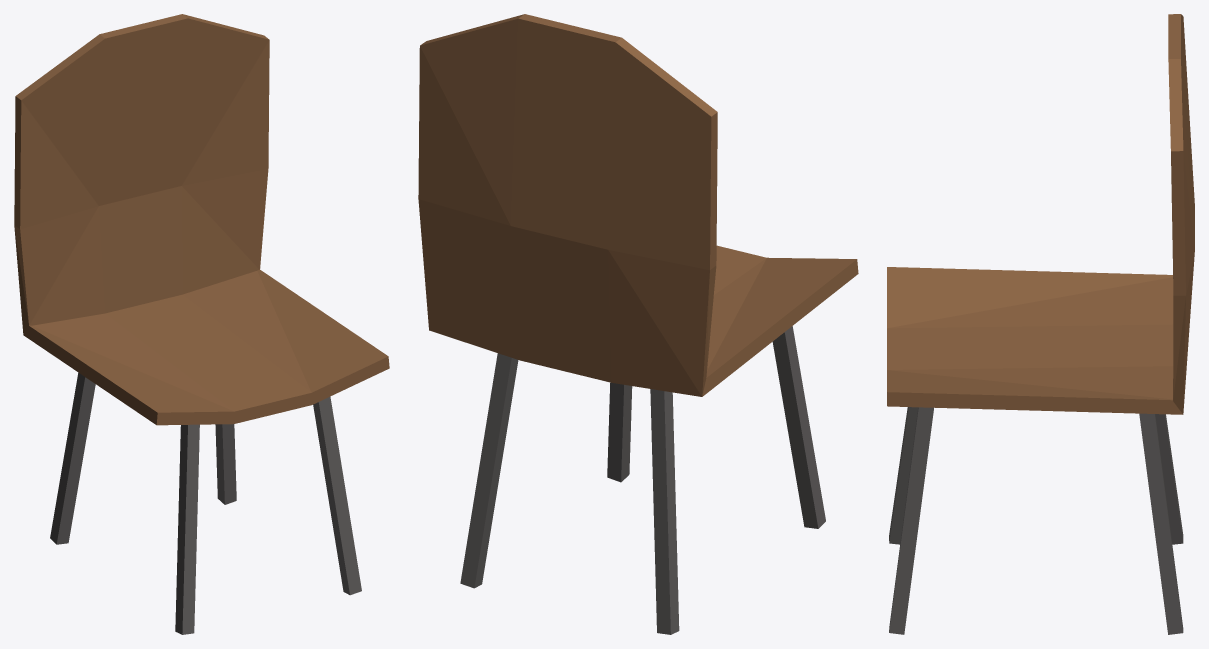
File: Chair_08.fbx
3 renders of one model, left to right at view 1: azimuth 30°, elevation 25°; view 2: azimuth 150°, elevation 25°; view 3: azimuth 270°, elevation 25°, orthographic. The views are drawn at different scales.
Parts seen in each view (by area): view 1: Chair_08; view 2: Chair_08; view 3: Chair_08.
Part boxes in pixels (x1,y1,x2,y2): Chair_08: [14, 14, 389, 634]; Chair_08: [418, 14, 858, 634]; Chair_08: [887, 14, 1194, 634].
Bounding box in the file's own units: 53.14 × 101 × 51.27.
